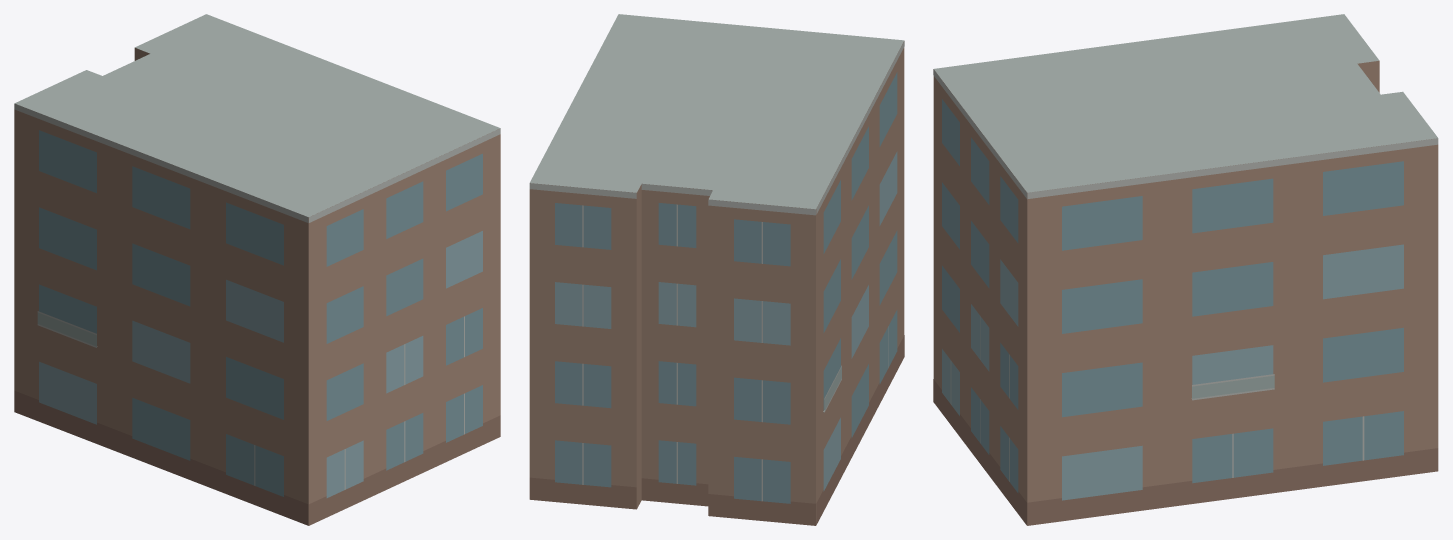
The model's file is survey-upis-32605583.glb.
The picture shows the model from 3 angles, left to right: view 1: azimuth 30°, elevation 25°; view 2: azimuth 150°, elevation 25°; view 3: azimuth 270°, elevation 25°; orthographic projection. The views are drawn at different scales.
Parts seen in each view (by area): view 1: survey-upis-32605583.tmp; view 2: survey-upis-32605583.tmp; view 3: survey-upis-32605583.tmp.
Boxes of the visible parts, x1,y1,x2,y2 form: survey-upis-32605583.tmp: (14, 14, 500, 525); survey-upis-32605583.tmp: (529, 14, 904, 525); survey-upis-32605583.tmp: (933, 14, 1438, 525).
Size of the model in its own units: 14.51 by 12.6 by 17.32.
